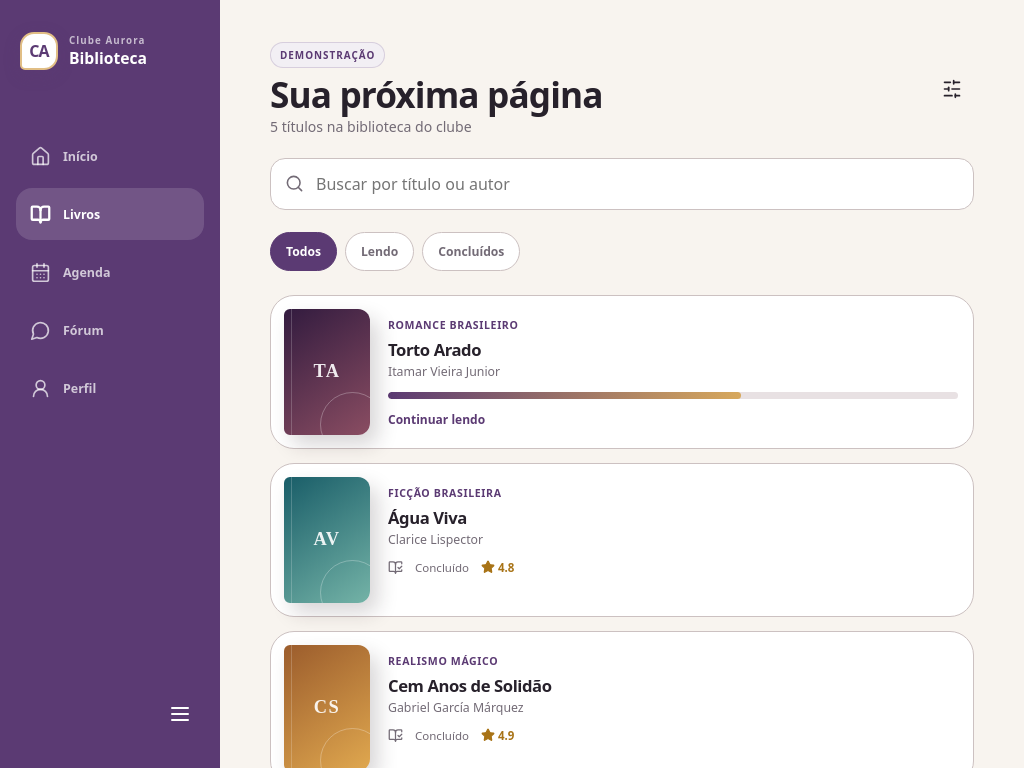
Test: protótipo do Clube do Livro › filtra a biblioteca e mantém a navegação principal acessível
Expected: the navigation bar named "Navegação principal" is shown, 0,130 -> 220,414
Type "Clarice" into the field named "Buscar na biblioteca".
click(636, 184); type("Clarice")  # box 314,159 -> 959,209
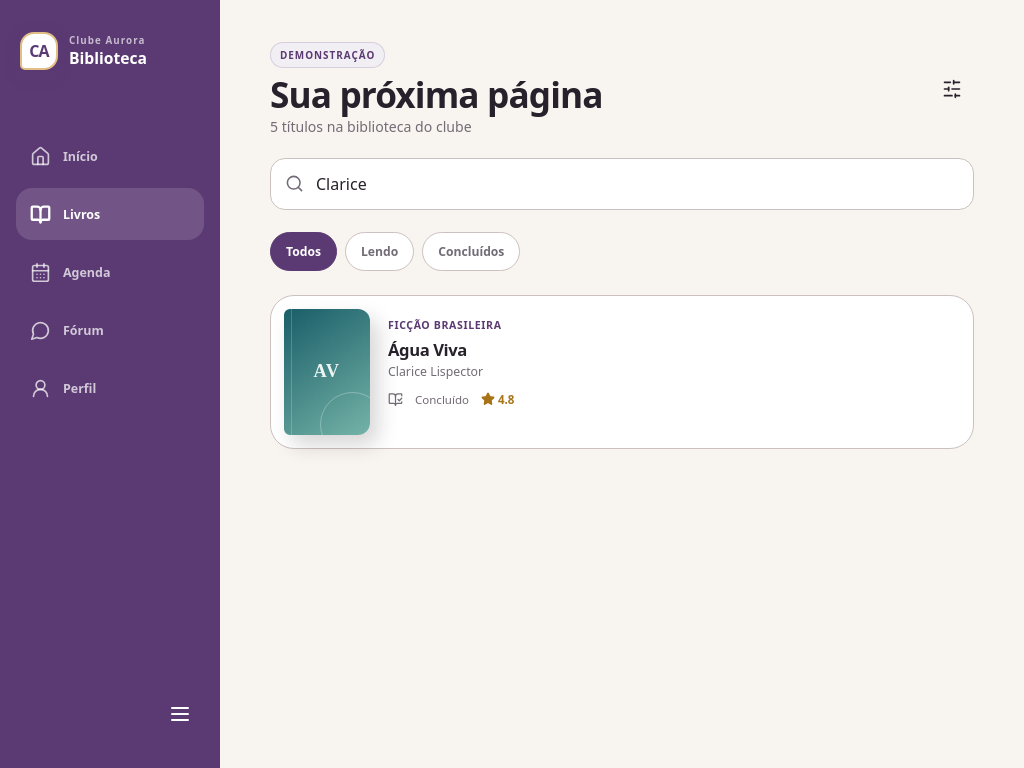
Expected: the heading "Água Viva" is shown, 388,338 -> 467,361
Expected: the heading "Cem Anos de Solidão" is gone
